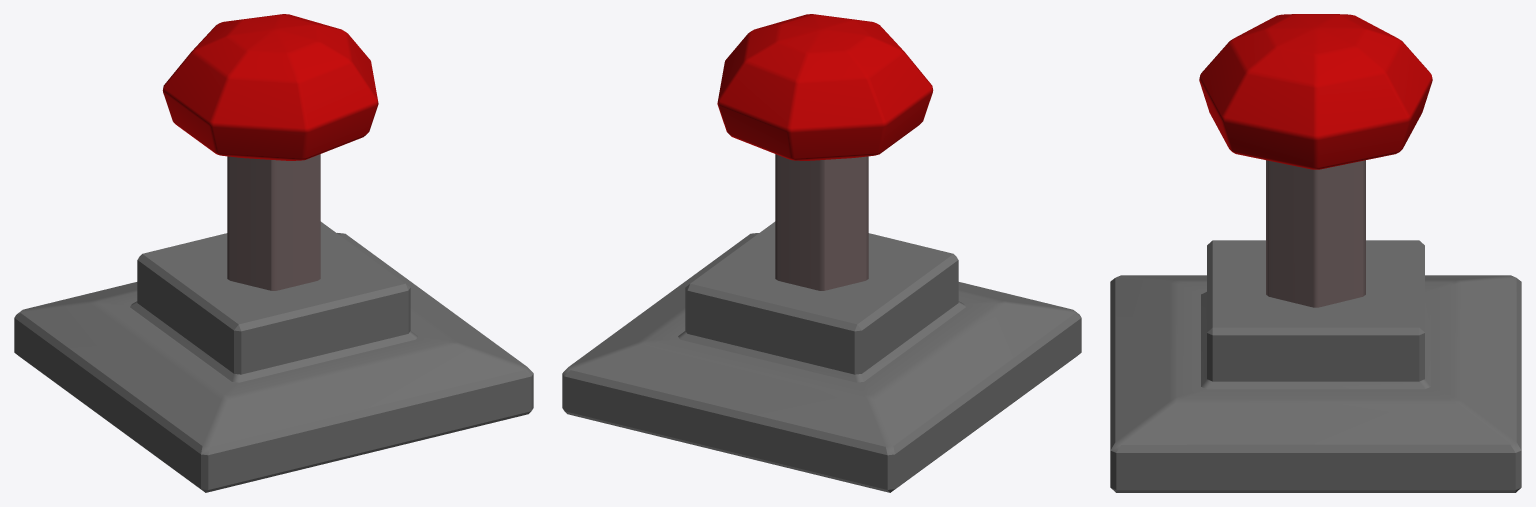
File: switch.fbx
The picture shows the model from 3 angles, left to right: view 1: azimuth 30°, elevation 25°; view 2: azimuth 150°, elevation 25°; view 3: azimuth 270°, elevation 25°; orthographic projection. The views are drawn at different scales.
Parts seen in each view (by area): view 1: pCube63; view 2: pCube63; view 3: pCube63.
Part boxes in pixels (x1,y1,x2,y2): pCube63: (14, 14, 533, 492); pCube63: (562, 14, 1081, 492); pCube63: (1110, 14, 1521, 492).
Bounding box in the file's own units: 2.38 × 2.43 × 2.38.
